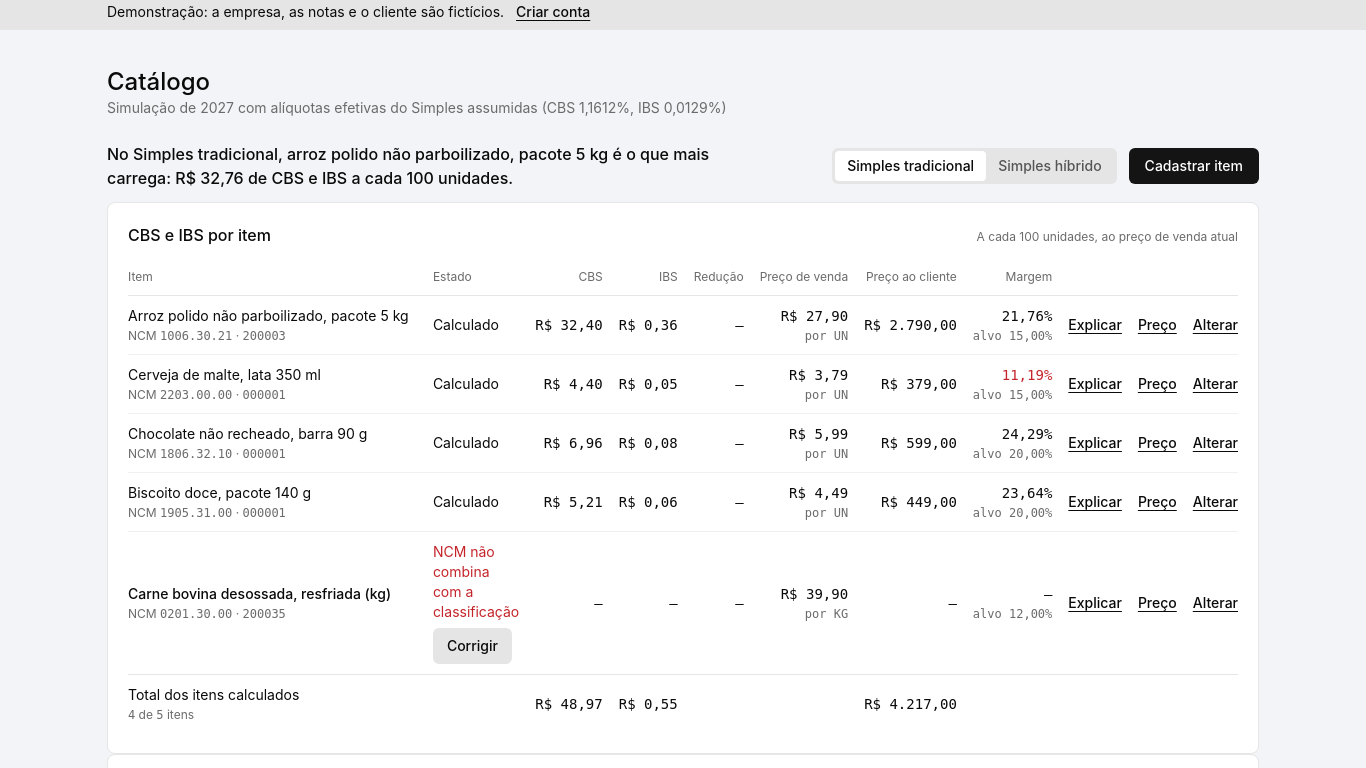
Test: alterar e arquivar o item › arquivar pede a confirmação; o item na compra de um cliente não sai, e a tela leva aos clientes
(page scrolled)
Step 1. Click the button "Alterar" in the row of "Cerveja de malte, lata 350 ml" → (1215, 384), box x1=1193 y1=374 x2=1238 y2=394
(page scrolled)
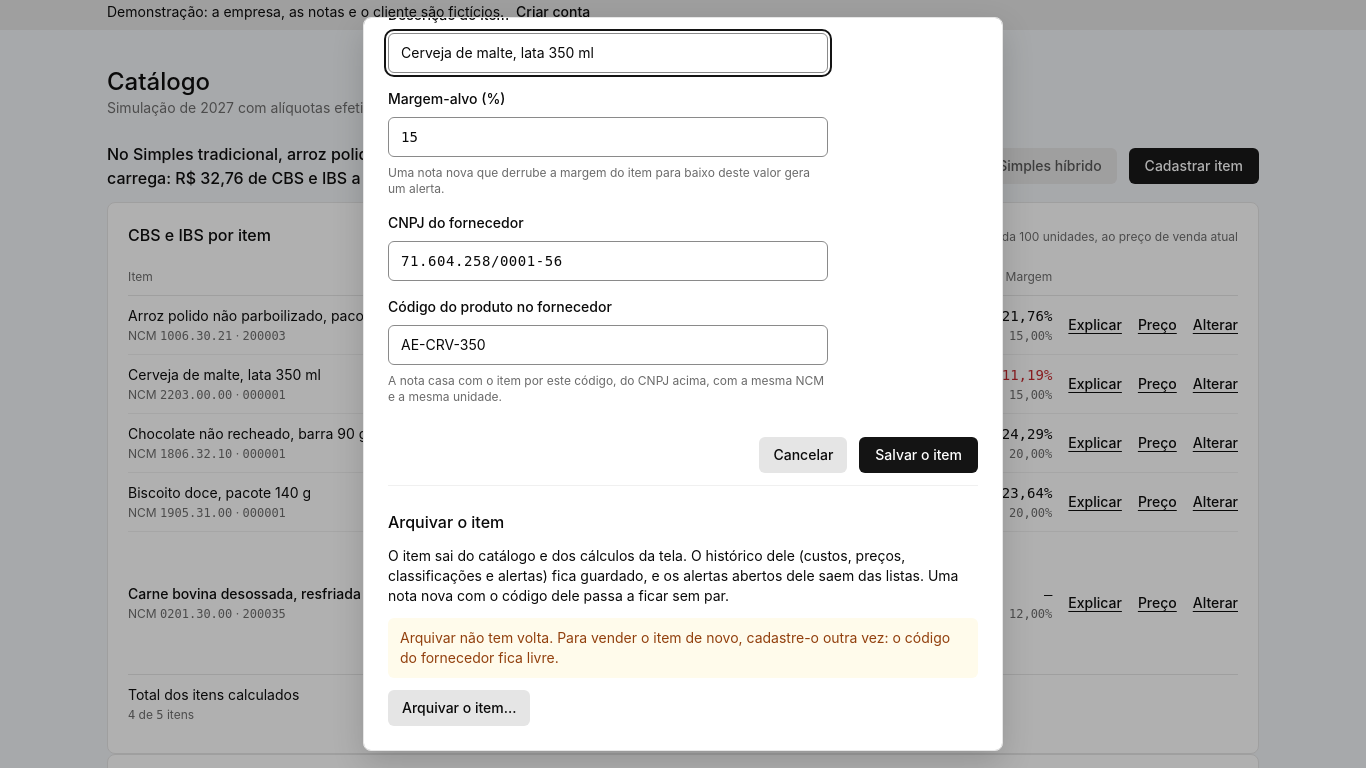
Check: the text "Arquivar não tem volta" is shown, box x1=400 y1=629 x2=950 y2=666
Step 2. Click the button "Arquivar o item…" → (459, 708), box x1=388 y1=690 x2=530 y2=726
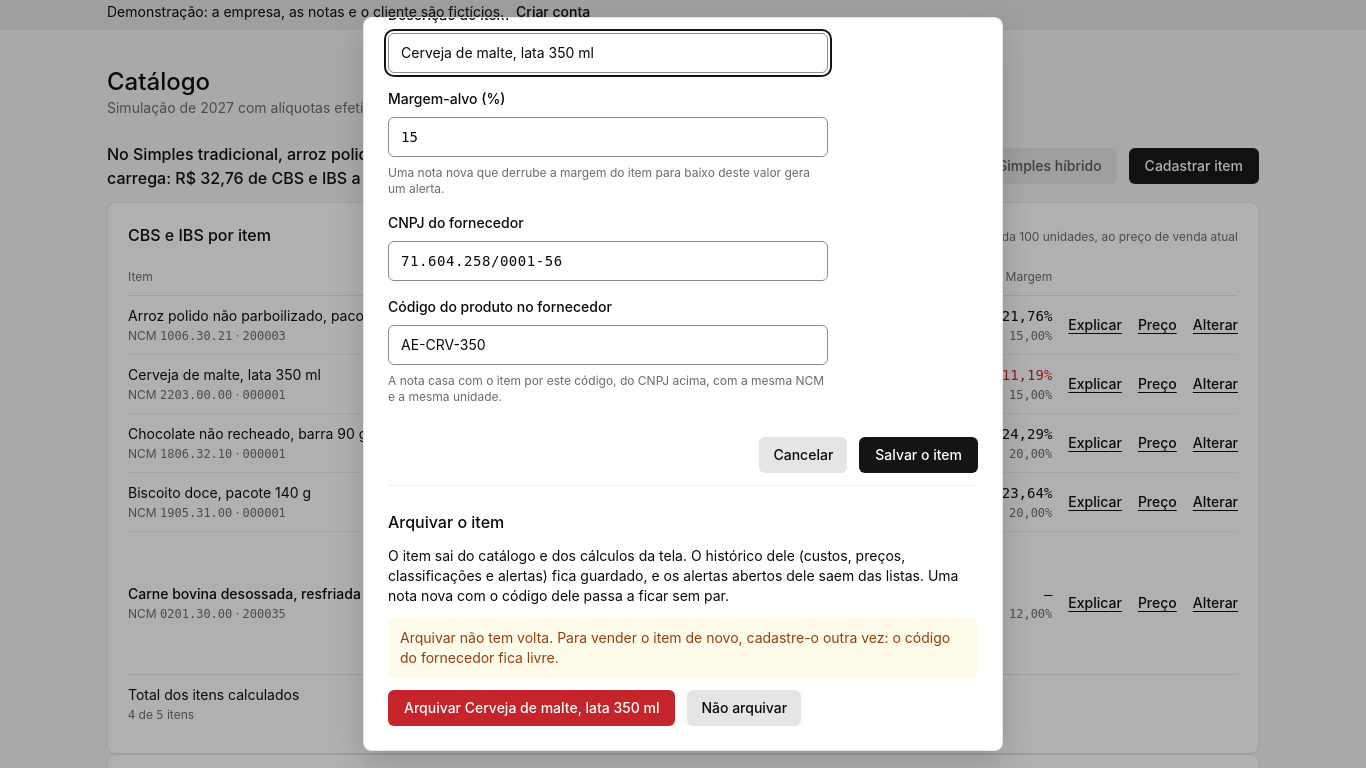
Step 3. Click the button "Arquivar Cerveja de malte, lata 350 ml" → (532, 708), box x1=388 y1=690 x2=675 y2=726
(page scrolled)
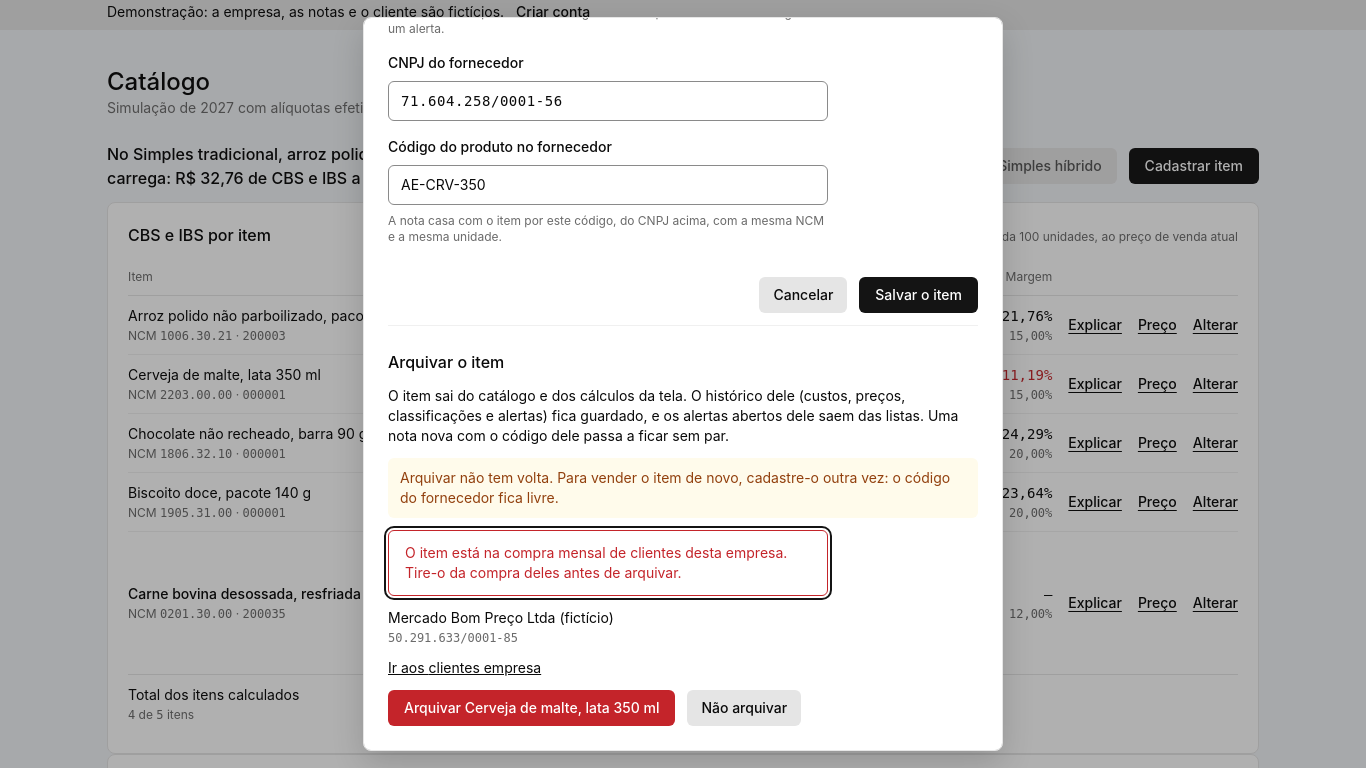
Check: the message shows "O item está na compra mensal de clientes desta empresa. Tire-o da compra deles antes de arquivar.", box x1=405 y1=544 x2=787 y2=581
Check: the list item "Mercado Bom Preço Ltda (fictício)" is shown, box x1=388 y1=609 x2=614 y2=626
